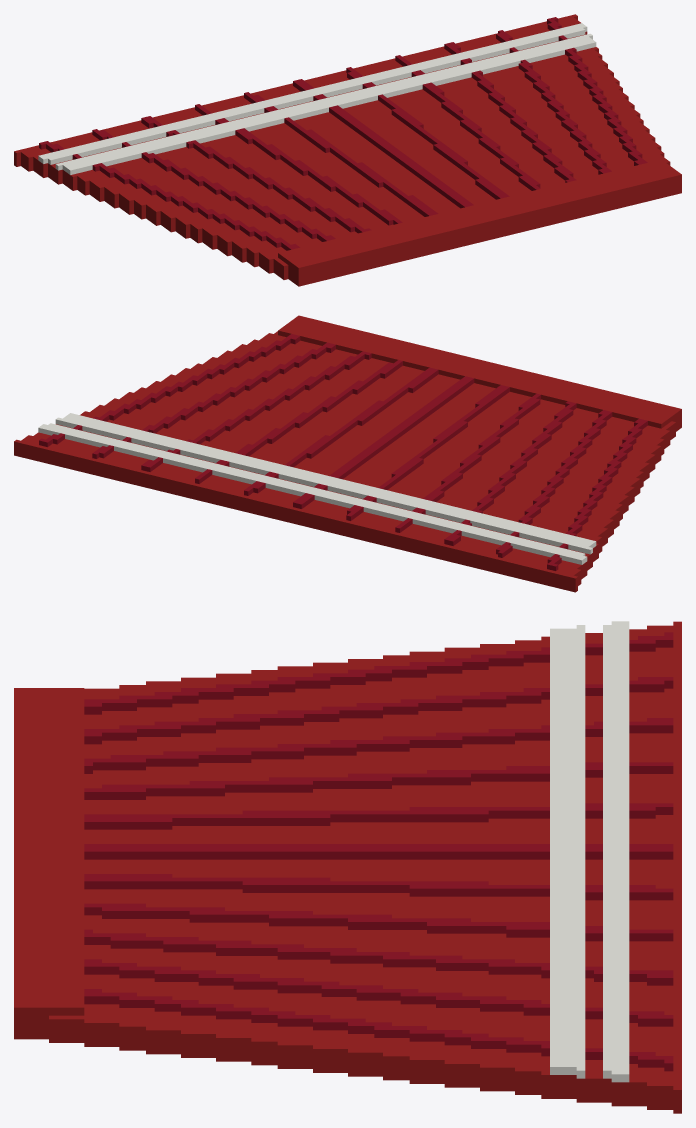
Rendered from cheerleader_skirt.glb.
3 views of the same model, one above another, from view 1: azimuth 30°, elevation 25°; view 2: azimuth 150°, elevation 25°; view 3: azimuth 270°, elevation 25° (orthographic). The views are drawn at different scales.
Visible parts, largest first — view 1: cheerleader_skirt:compound; view 2: cheerleader_skirt:compound; view 3: cheerleader_skirt:compound.
Part boxes in pixels (x1,y1,x2,y2): cheerleader_skirt:compound: (14, 14, 681, 286); cheerleader_skirt:compound: (14, 315, 681, 592); cheerleader_skirt:compound: (14, 621, 681, 1113).
Bounding box in the file's own units: 0.504 × 0.016 × 0.304.
